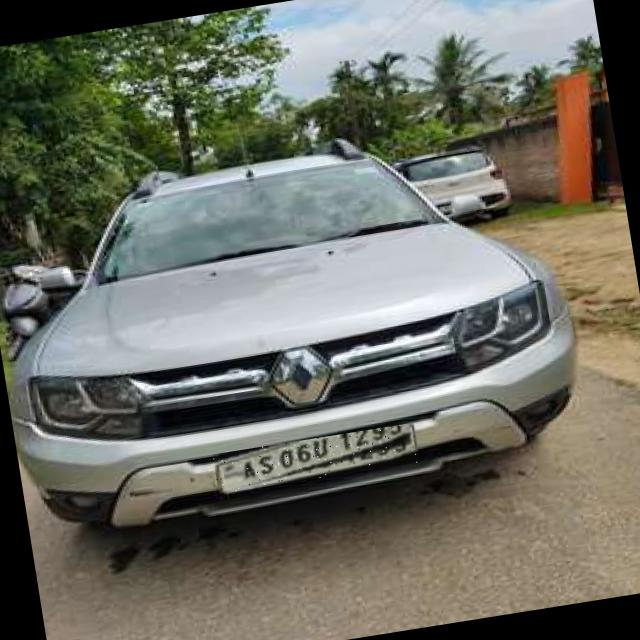Plate: (214, 424, 419, 495)
